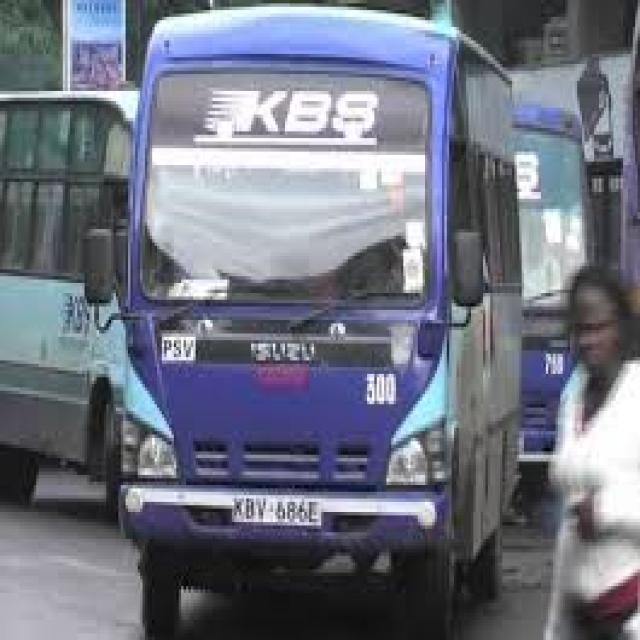bus: (75, 0, 543, 640)
